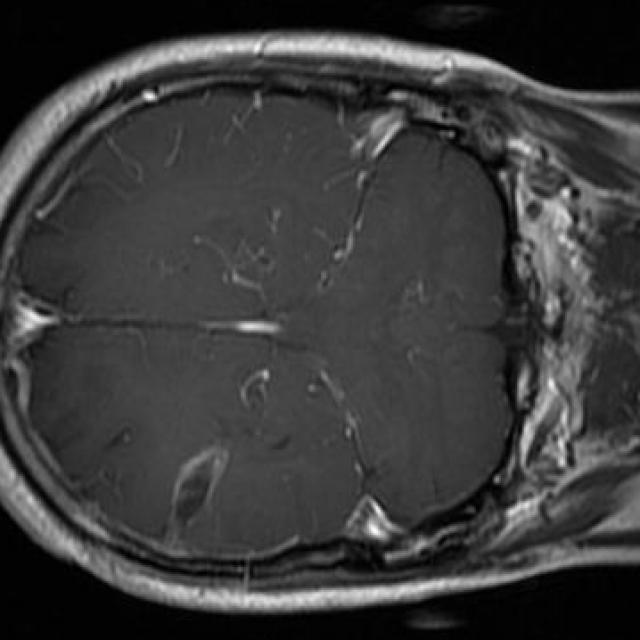glioma: (169, 447, 230, 551)
